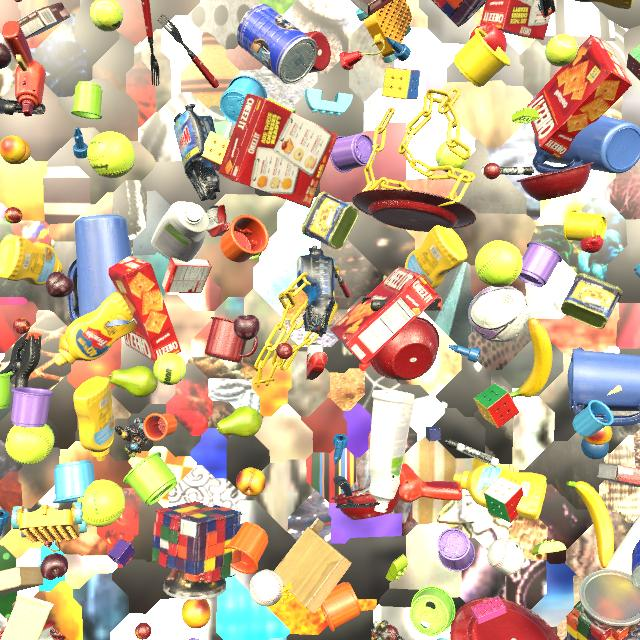ycb_002_master_chef_can: (237, 4, 318, 84), (630, 519, 640, 587)
ycb_003_cracker_box: (218, 94, 338, 208), (527, 35, 632, 159), (330, 266, 439, 365), (109, 256, 181, 362), (480, 0, 550, 40)
ycb_005_tomato_soup_can: (567, 638, 569, 640)
ycb_006_mustard_bottle: (54, 292, 136, 367), (453, 464, 547, 520), (405, 225, 468, 289), (73, 376, 115, 462), (0, 234, 63, 285), (574, 0, 634, 9)
ycb_008_pudding_box: (16, 2, 70, 39), (597, 463, 640, 487), (351, 0, 393, 17)
ycb_009_gelatin_box: (161, 258, 212, 293)
ycb_010_potted_meat_can: (561, 273, 622, 329), (302, 192, 359, 249)
ycb_011_banana: (566, 481, 614, 568), (509, 318, 552, 398)
ycb_012_strawberry: (580, 235, 603, 253)
ycb_013_apple: (469, 23, 507, 53)
ycb_015_peach: (0, 135, 31, 165), (236, 467, 266, 496), (182, 599, 210, 629), (584, 426, 612, 445), (59, 334, 69, 353)
ycb_016_pear: (109, 365, 158, 398), (216, 406, 262, 438), (230, 135, 232, 139)
ycb_018_plum: (46, 271, 74, 298), (40, 553, 68, 580), (233, 315, 260, 340), (0, 42, 12, 69)
